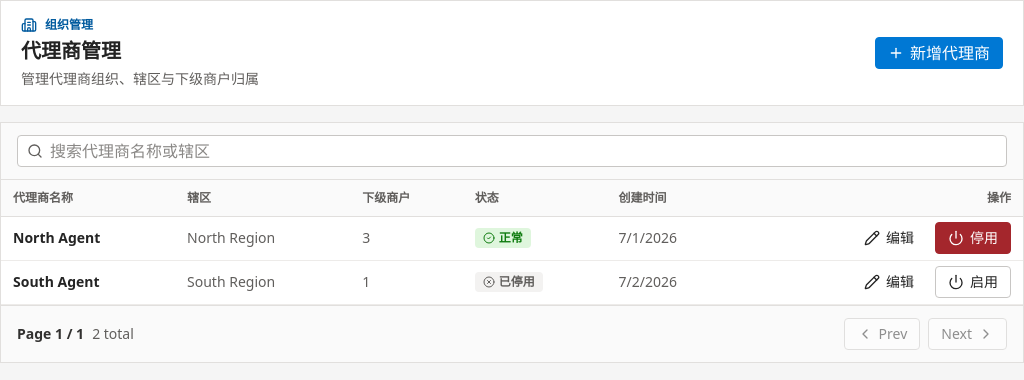
it: AgentManagement Fluent table › renders the real agent list and filters by name or region
expect the text "North Agent" is shown: met, box [13, 228, 100, 247]
expect the heading "代理商管理" is shown: met, box [21, 37, 121, 64]
Type "north" into the field with placeholder "搜索代理商名称或辖区". click: (512, 151)
box: [17, 135, 1007, 167]
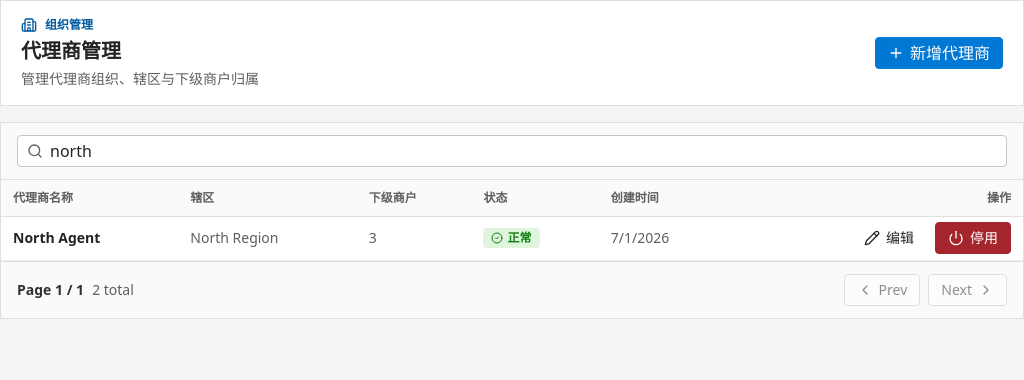
expect the text "North Agent" is shown: met, box [13, 228, 100, 247]
expect the text "South Agent" is gone: met
